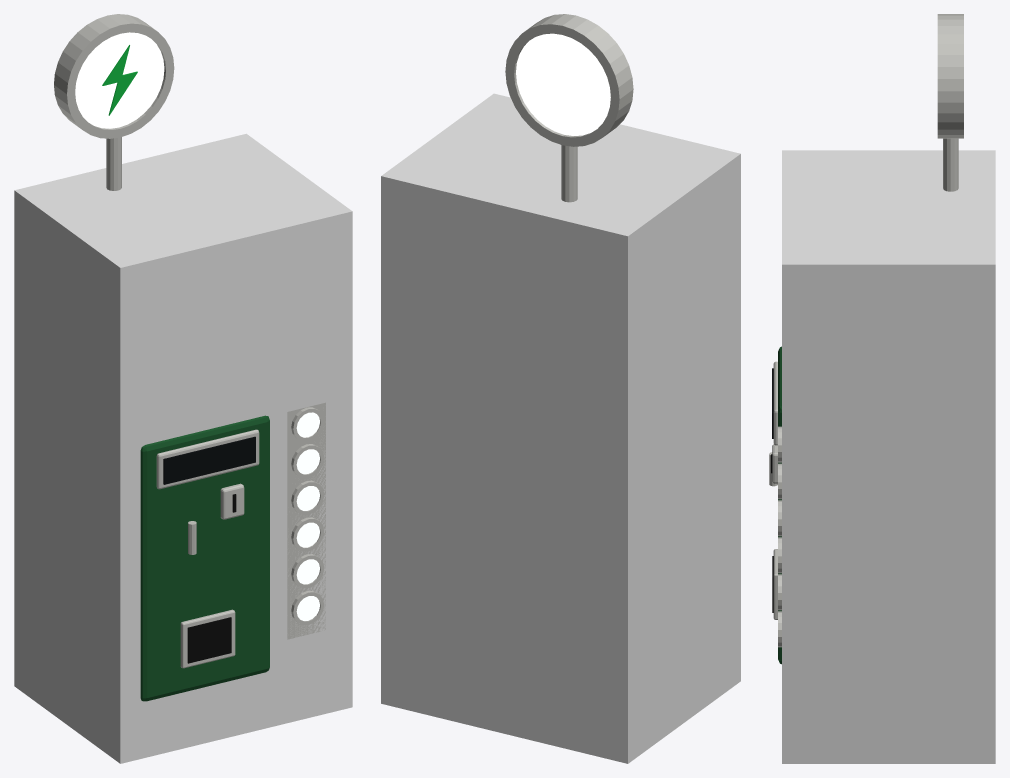
File: rapid.glb
3 views of the same model, side by side, from view 1: azimuth 30°, elevation 25°; view 2: azimuth 150°, elevation 25°; view 3: azimuth 270°, elevation 25° (orthographic). The views are drawn at different scales.
Parts seen in each view (by area): view 1: col_0, paint2, chrome, lit_sign, lit_lamp, glass, dark, lit_ink; view 2: col_0, lit_sign, chrome; view 3: col_0, chrome, paint2.
Boxes of the visible parts, x1,y1,x2,y2 form: col_0: (14,133,352,763); paint2: (140,415,269,701); chrome: (54,14,325,668); lit_sign: (75,32,164,128); lit_lamp: (296,412,319,620); glass: (163,436,255,484); dark: (187,494,236,663); lit_ink: (102,45,137,115); col_0: (381,93,740,763); lit_sign: (516,33,610,135); chrome: (505,14,633,202); col_0: (782,150,995,763); chrome: (769,14,963,647); paint2: (778,346,781,664).
Size of the model in its own units: 0.96 by 2.62 by 0.806.
